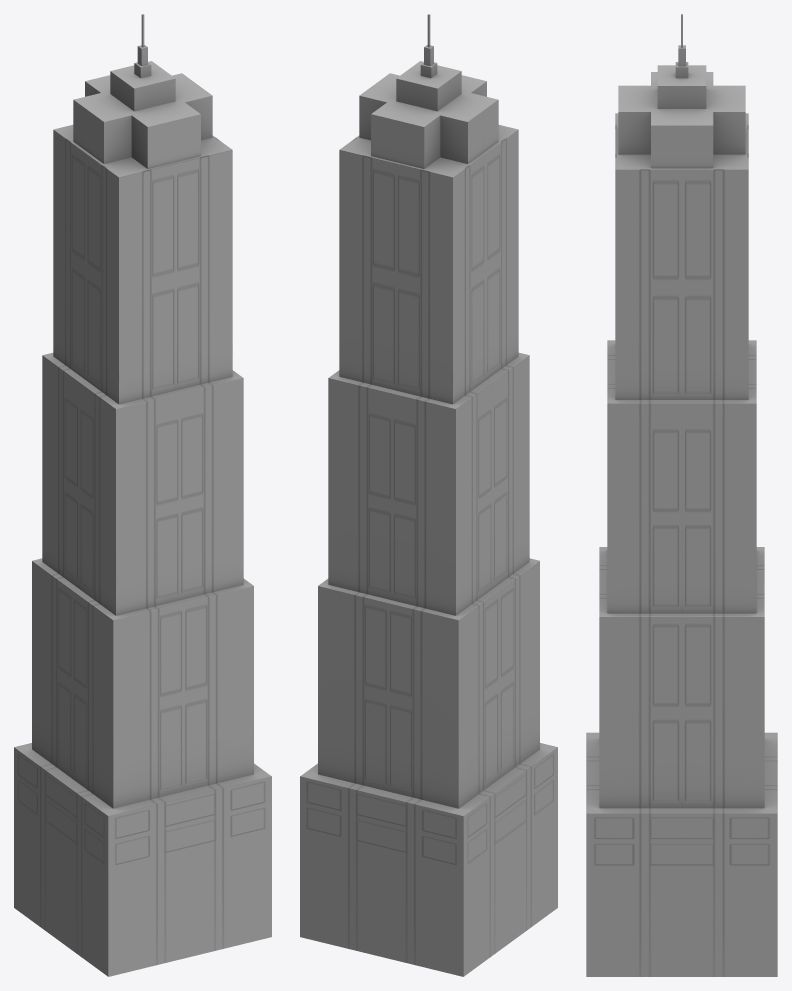
Rendered from Skyscraper_1.glb.
The picture shows the model from 3 angles, left to right: view 1: azimuth 30°, elevation 25°; view 2: azimuth 150°, elevation 25°; view 3: azimuth 270°, elevation 25°; orthographic projection.
Parts seen in each view (by area): view 1: Skyscraper_1; view 2: Skyscraper_1; view 3: Skyscraper_1.
Part boxes in pixels (x1,y1,x2,y2): Skyscraper_1: [14, 14, 271, 976]; Skyscraper_1: [300, 14, 557, 976]; Skyscraper_1: [586, 14, 777, 976].
Bounding box in the file's own units: 1.05 × 5.58 × 1.05.
Materials: 1 (1 with a texture image).
